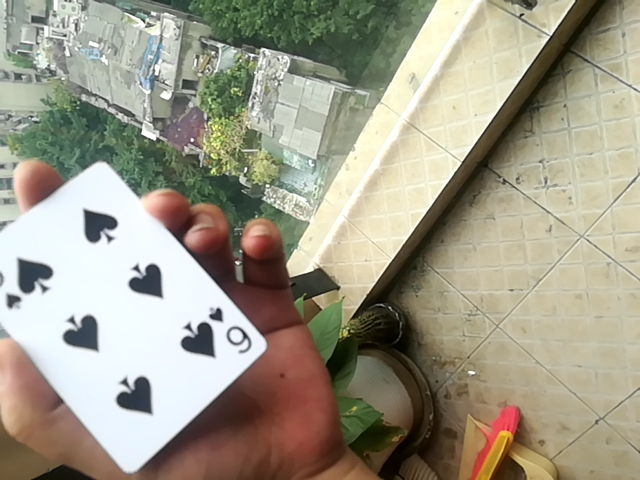ht 6: (3, 160, 271, 477)
